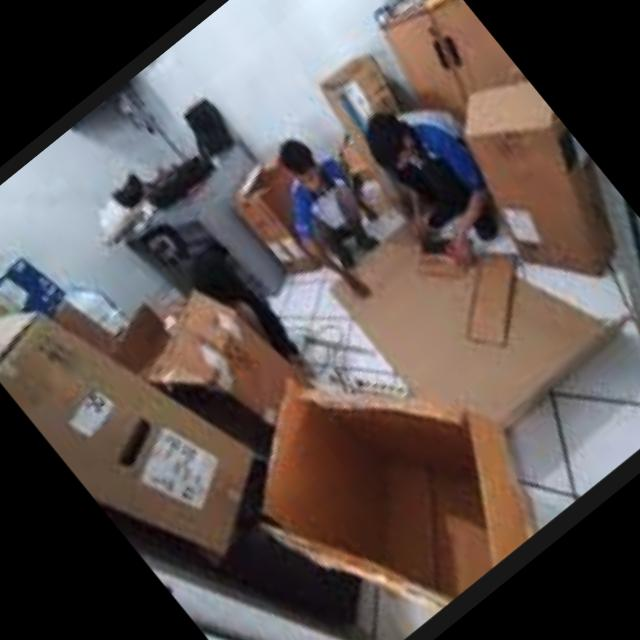Kardus: (203, 296, 567, 640), (0, 228, 294, 596), (426, 62, 640, 307)
